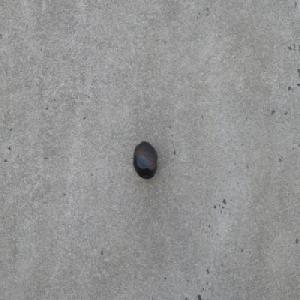FuelCap: (133, 139, 158, 179)
